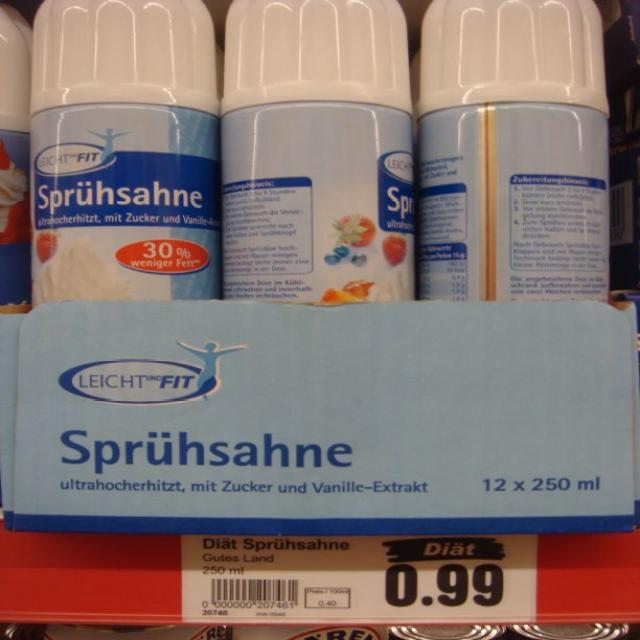Cream: (222, 0, 414, 304), (418, 0, 611, 301), (31, 0, 219, 305)
